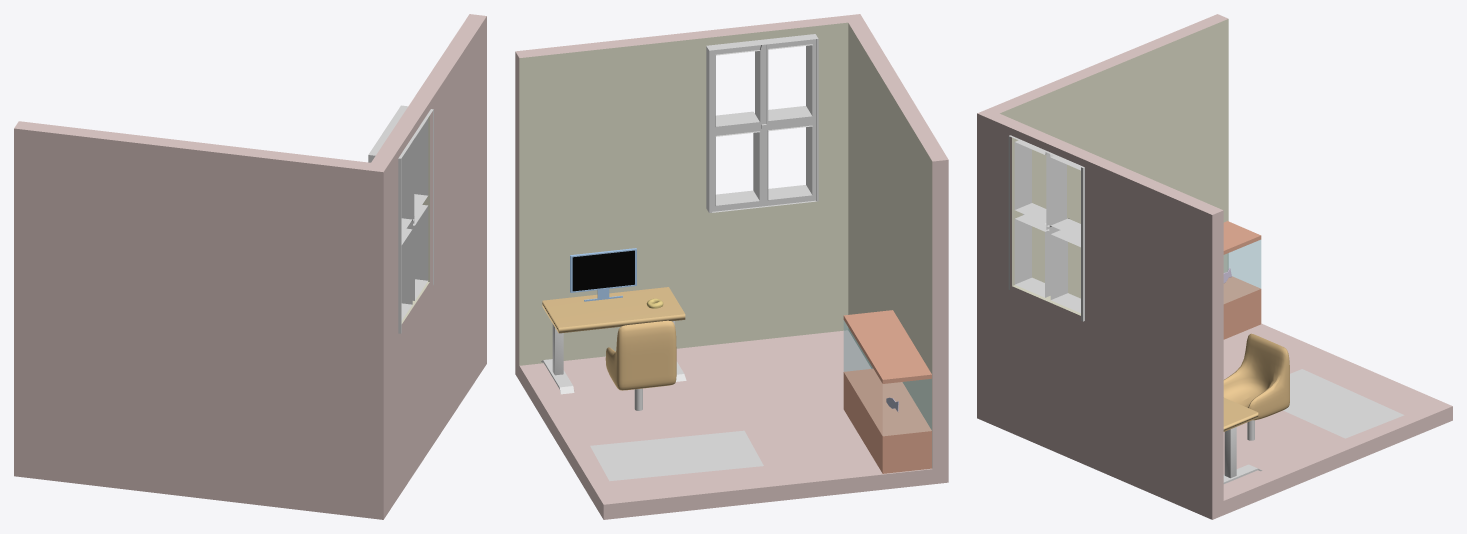
File: Finale.glb
The picture shows the model from 3 angles, left to right: view 1: azimuth 30°, elevation 25°; view 2: azimuth 150°, elevation 25°; view 3: azimuth 270°, elevation 25°; orthographic projection. The views are drawn at different scales.
Visible parts, largest first — view 1: 墙面, 窗户; view 2: 墙面, 窗户, 立方体, 平面.001, water, Cube, 椅子, screen, 电脑, 桌子腿, 桌子杆; view 3: 墙面, 窗户, 平面.001, 椅子, 立方体, water, Cube, 桌子杆.
Part boxes in pixels (x1,y1,x2,y2): 墙面: (14,14,486,519); 窗户: (368,105,433,333); 墙面: (515,14,948,519); 窗户: (706,34,818,212); 立方体: (843,310,931,473); 平面.001: (590,430,763,481); water: (844,321,931,435); Cube: (542,287,685,333); 椅子: (605,320,676,390); screen: (572,250,634,291); 电脑: (570,248,636,301); 桌子腿: (541,359,686,394); 桌子杆: (552,321,674,375); 墙面: (977,14,1452,519); 窗户: (1008,135,1084,321); 平面.001: (1283,369,1404,438); 椅子: (1223,333,1289,420); 立方体: (1223,221,1261,339); water: (1224,240,1260,303); Cube: (1223,397,1258,431); 桌子杆: (1224,427,1236,478).
Size of the model in its own units: 31.84 by 22.52 by 31.84.
